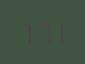one: (51, 19, 66, 43)
seven: (18, 20, 33, 44), (35, 20, 50, 43)
